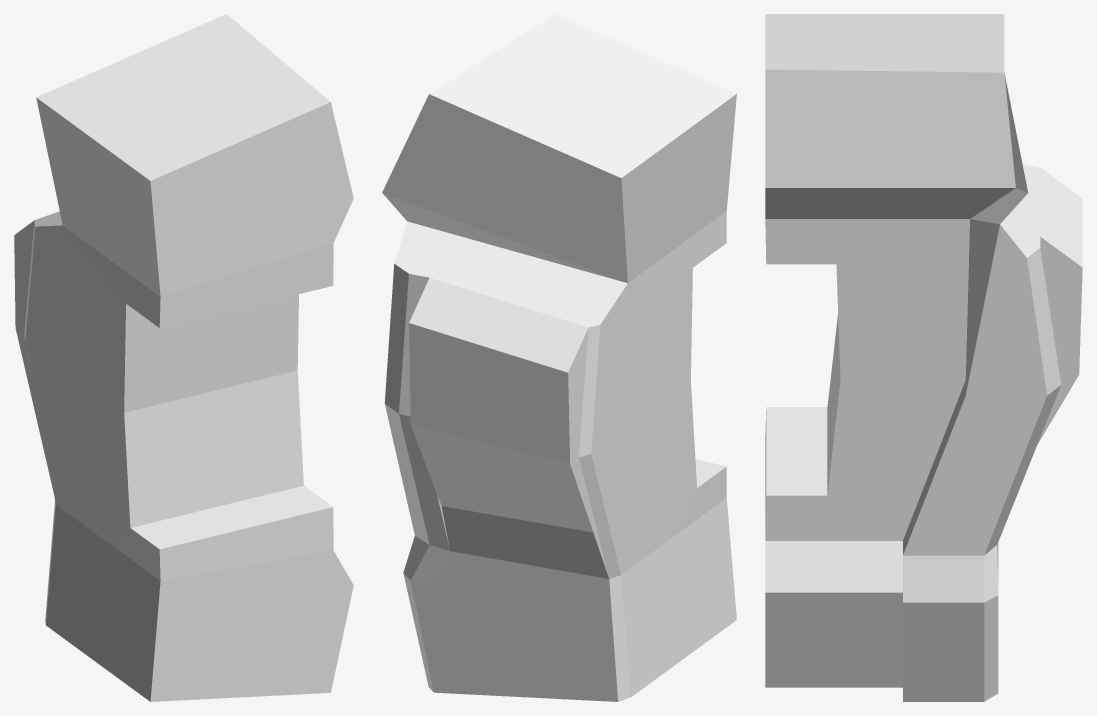
File: venice_col_6.fbx
3 renders of one model, left to right at view 1: azimuth 30°, elevation 25°; view 2: azimuth 150°, elevation 25°; view 3: azimuth 270°, elevation 25°, orthographic. The views are drawn at different scales.
Parts seen in each view (by area): view 1: Cube.373; view 2: Cube.373; view 3: Cube.373.
Part boxes in pixels (<box>): Cube.373: <box>14,14,353,701</box>; Cube.373: <box>382,14,736,701</box>; Cube.373: <box>765,14,1082,701</box>.
Size of the model in its own units: 536 by 1354 by 624.
